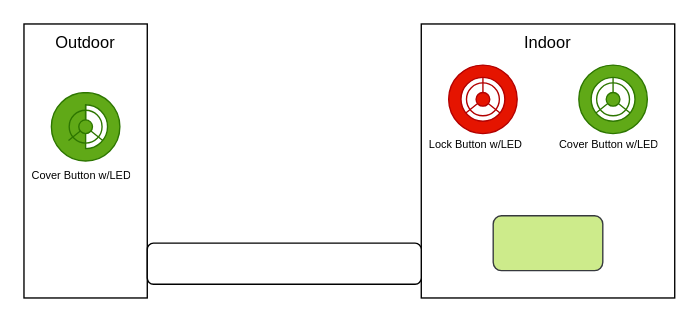
This 699x322 diagram has some shape labels left out. Each missing label, with the centre of its shape:
conduit: (x=283, y=263)
RPi Pico 2W: (x=547, y=242)
